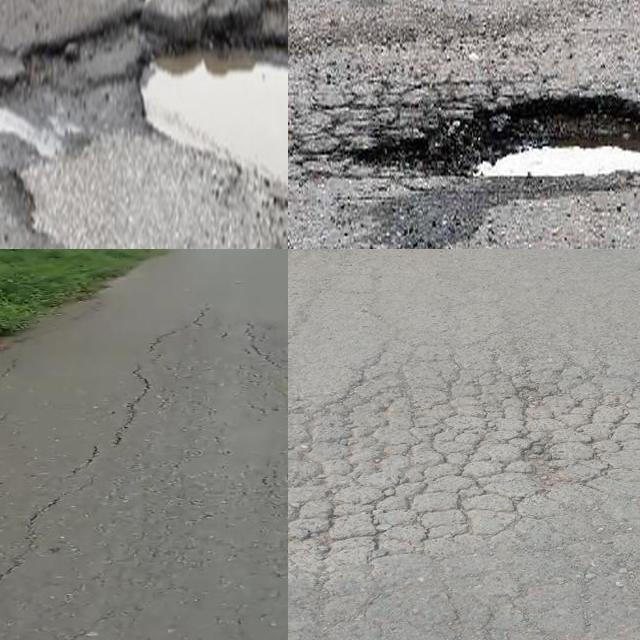Lubang: (361, 80, 640, 181), (139, 1, 288, 188)
Retak Buaya: (288, 328, 640, 584)
